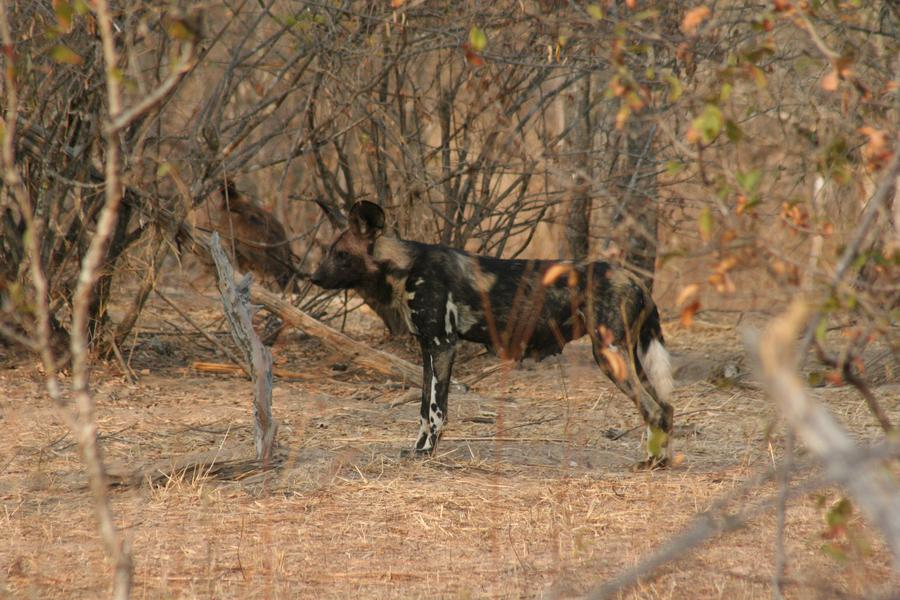wilddog: (321, 200, 645, 375)
